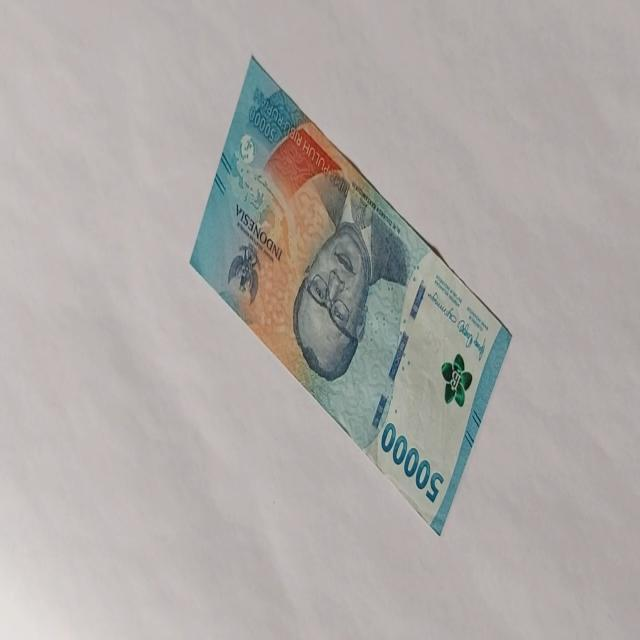lima puluh ribu rupiah: (188, 53, 512, 536), (380, 420, 444, 504)
